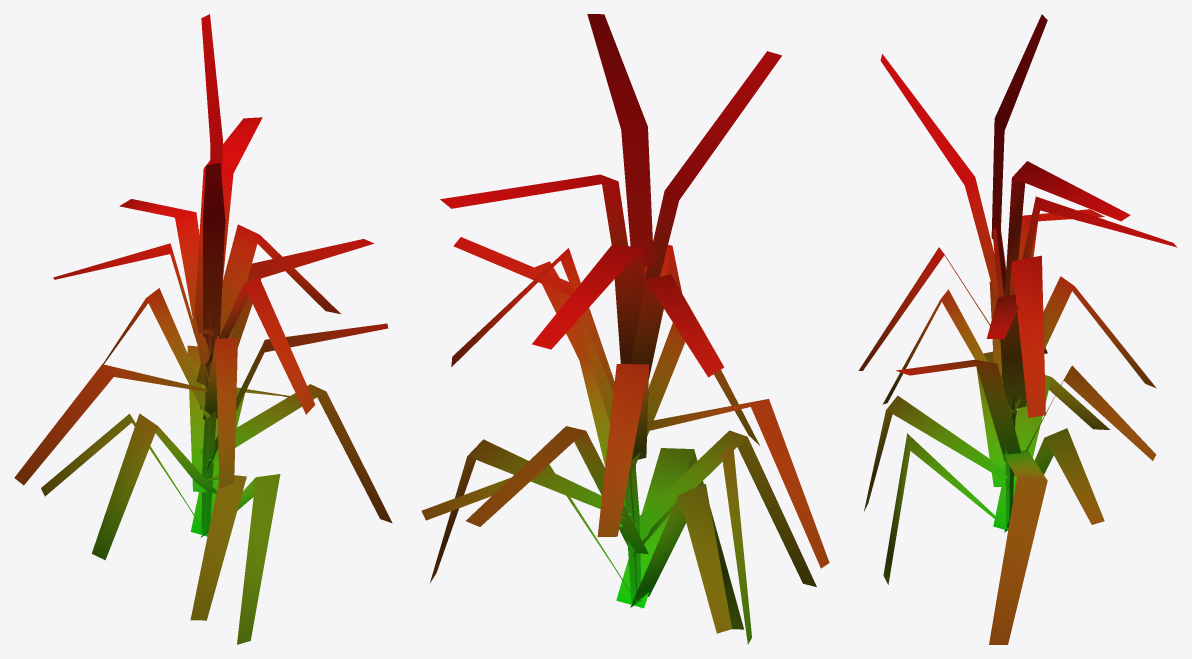
Rendered from Var1_LOD3.fbx.
3 renders of one model, left to right at view 1: azimuth 30°, elevation 25°; view 2: azimuth 150°, elevation 25°; view 3: azimuth 270°, elevation 25°, orthographic. The views are drawn at different scales.
Parts seen in each view (by area): view 1: _8490_Var1_LOD3; view 2: _8490_Var1_LOD3; view 3: _8490_Var1_LOD3.
Part boxes in pixels (left/top/right/bottom): _8490_Var1_LOD3: left=14, top=14, right=392, bottom=644; _8490_Var1_LOD3: left=421, top=14, right=829, bottom=644; _8490_Var1_LOD3: left=858, top=14, right=1177, bottom=644.
Size of the model in its own units: 41.03 by 62.98 by 31.21.
